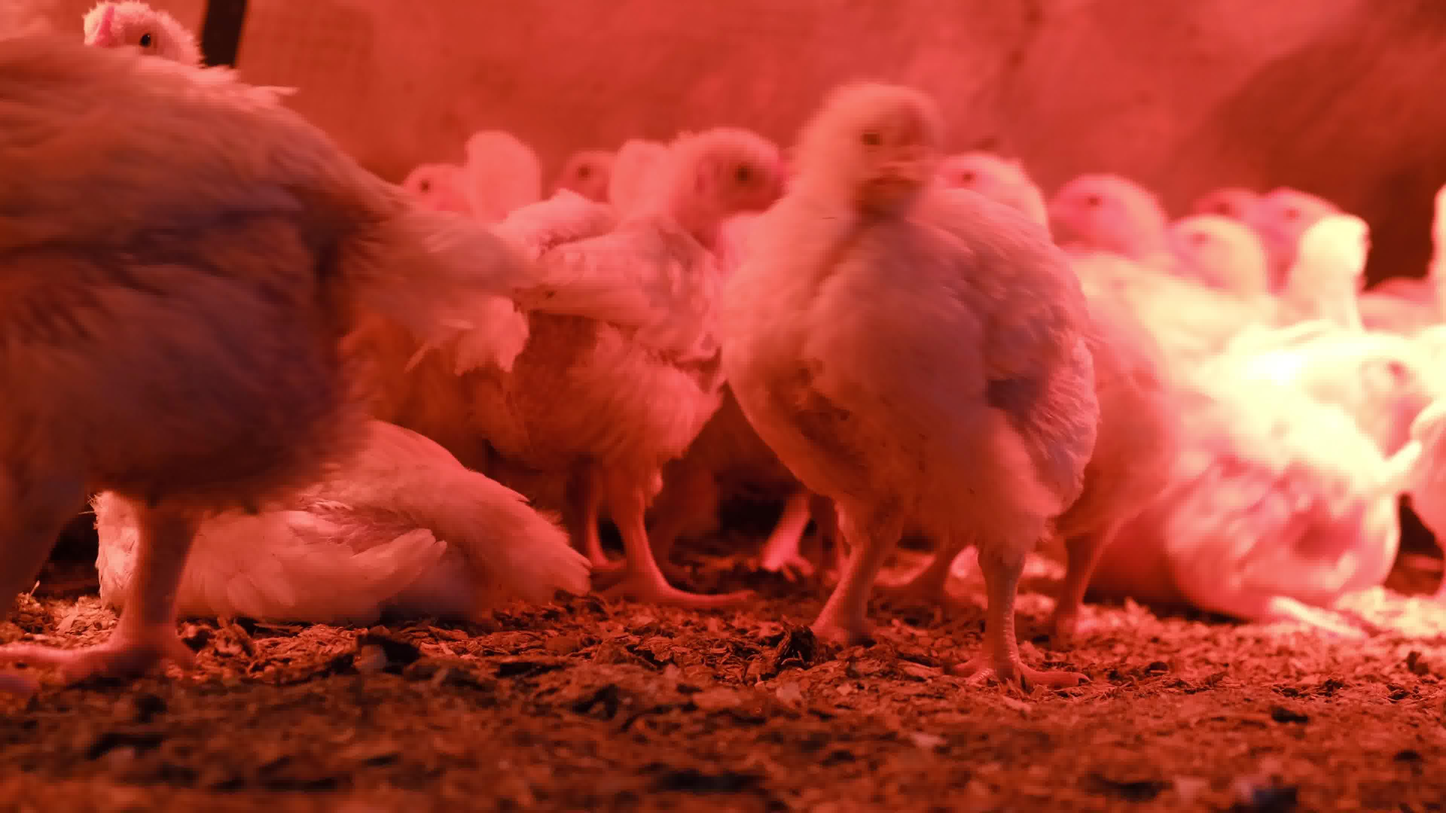AbNormal: (76, 369, 584, 627)
Normal: (0, 17, 397, 690), (718, 78, 1094, 691), (435, 125, 795, 620), (938, 151, 1177, 658), (1286, 211, 1390, 381), (471, 119, 550, 286), (1042, 174, 1162, 280), (1176, 206, 1269, 315), (78, 0, 207, 76), (400, 143, 454, 229)
